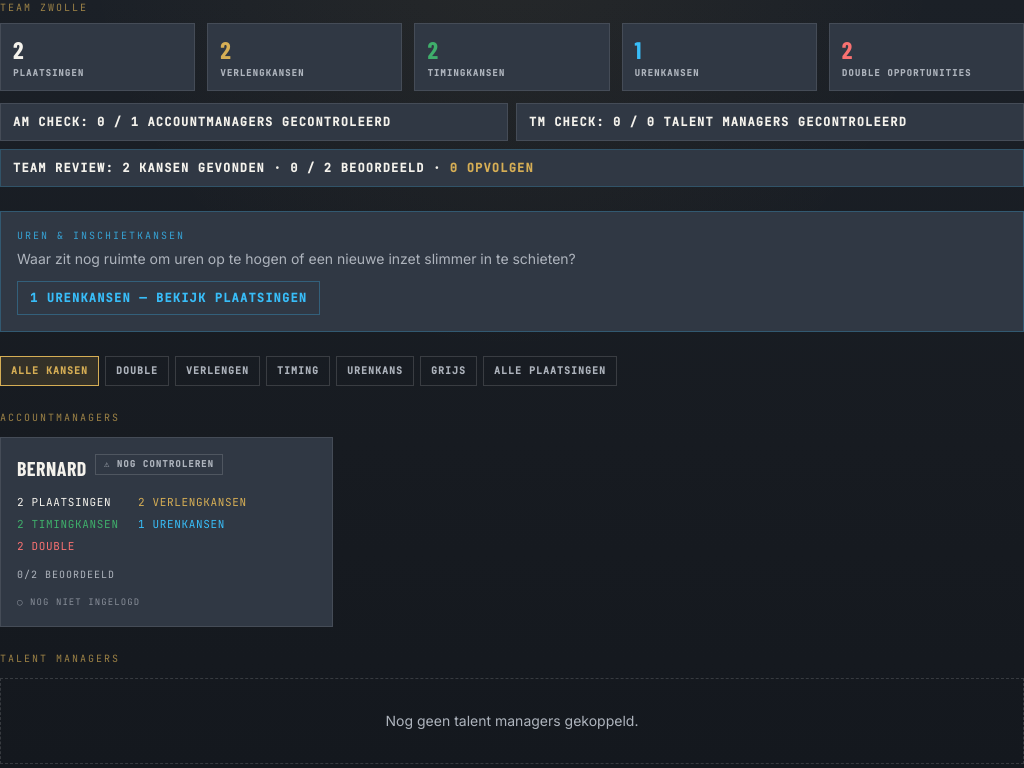
Test: FridayReviewView › clicking the UREN & INSCHIETKANSEN count filters the next-opened AM drawer to URENKANS placements only
Click the button "1 URENKANSEN — bekijk plaatsingen" at [169, 298], box [17, 281, 320, 315]
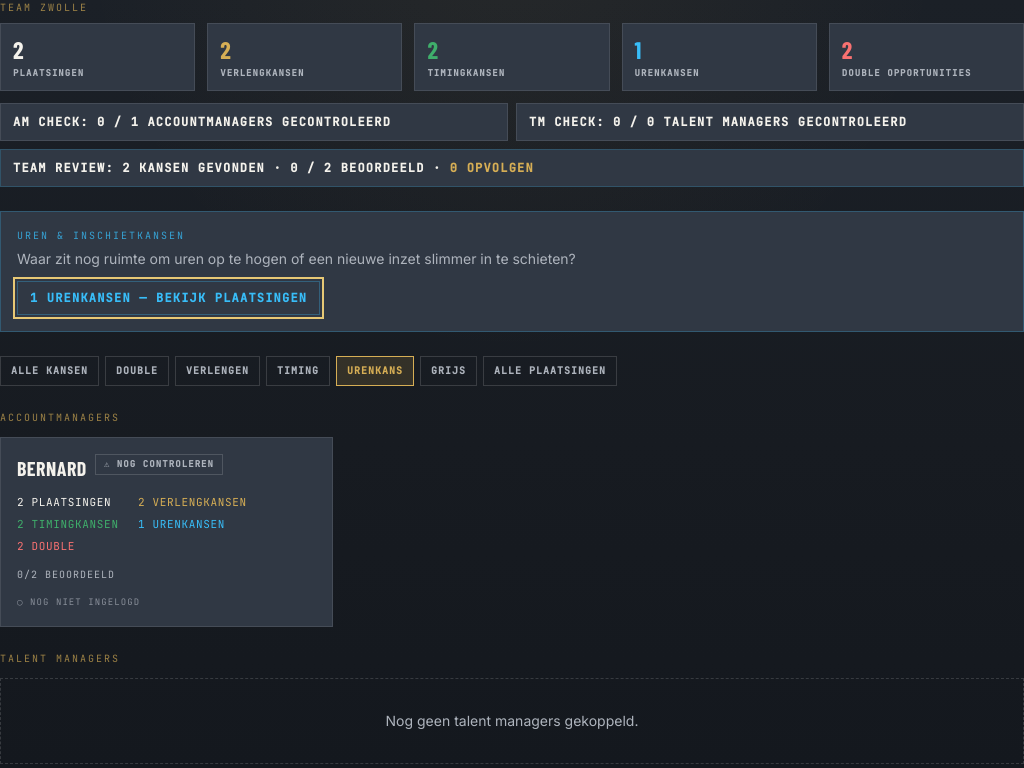
Click the text "Bernard" at [52, 468], box [17, 454, 87, 482]
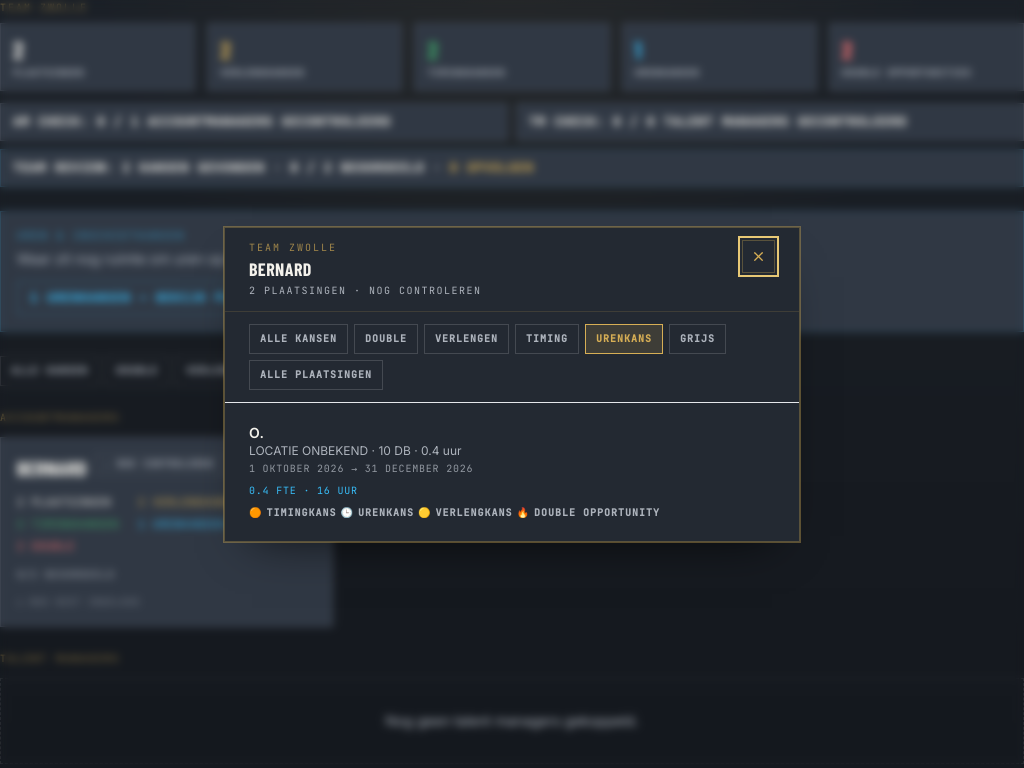
Result: the text "O." is shown at [249, 424, 264, 440]
